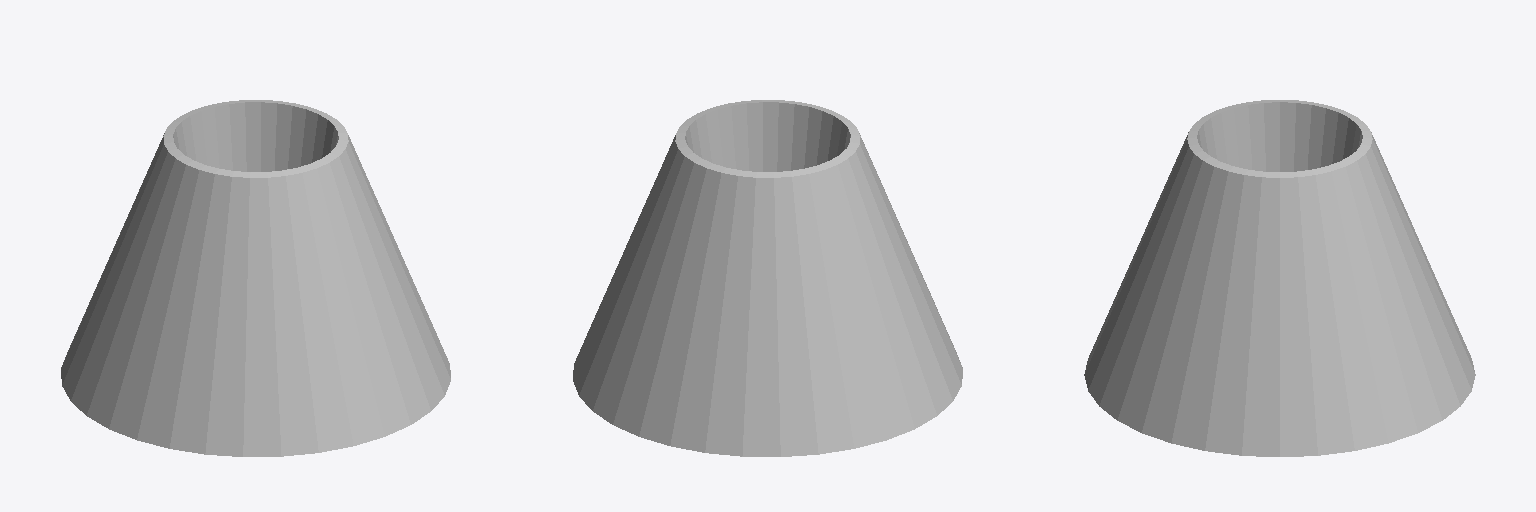
The model's file is lampShade.obj.
3 views of the same model, side by side, from view 1: azimuth 30°, elevation 25°; view 2: azimuth 150°, elevation 25°; view 3: azimuth 270°, elevation 25° (orthographic).
Visible parts, largest first — view 1: Cylinder; view 2: Cylinder; view 3: Cylinder.
Boxes of the visible parts, x1=… form: Cylinder: x1=61, y1=100, x2=450, y2=456; Cylinder: x1=573, y1=100, x2=962, y2=456; Cylinder: x1=1084, y1=100, x2=1475, y2=456.
Size of the model in its own units: 7.97 by 5.34 by 7.97.